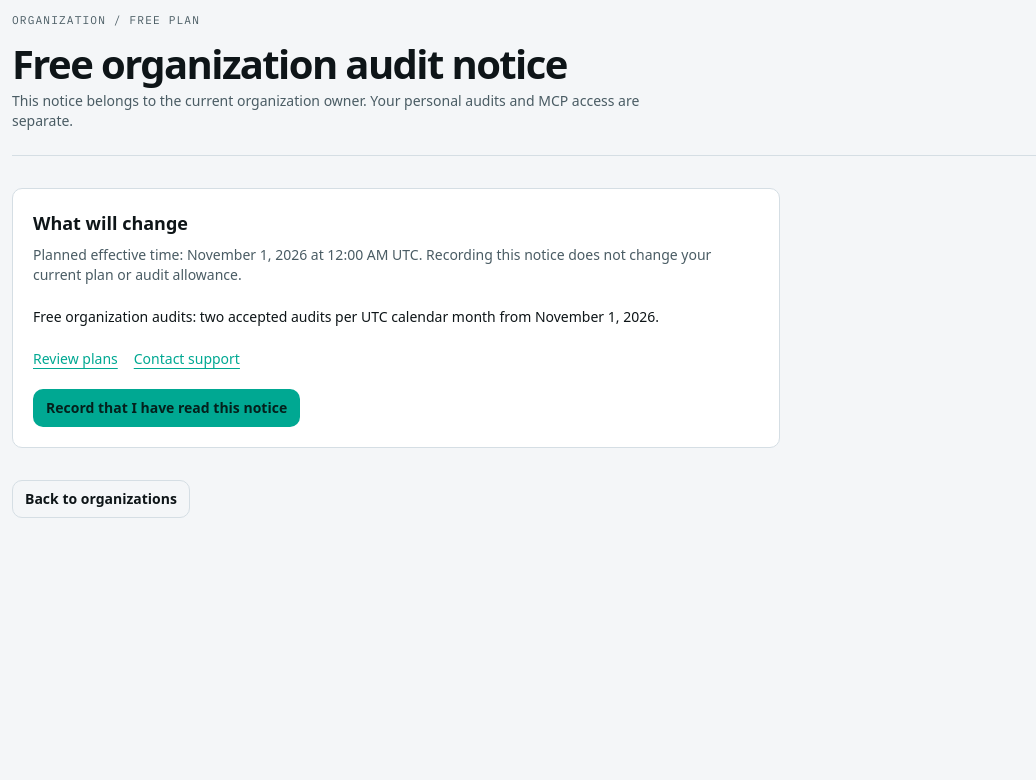
Test: Free organization cutover notice › keeps an unsuccessful acknowledgement pending and offers retry
Click the button "Record that I have read this notice" at (167, 408), box [33,389,300,427]
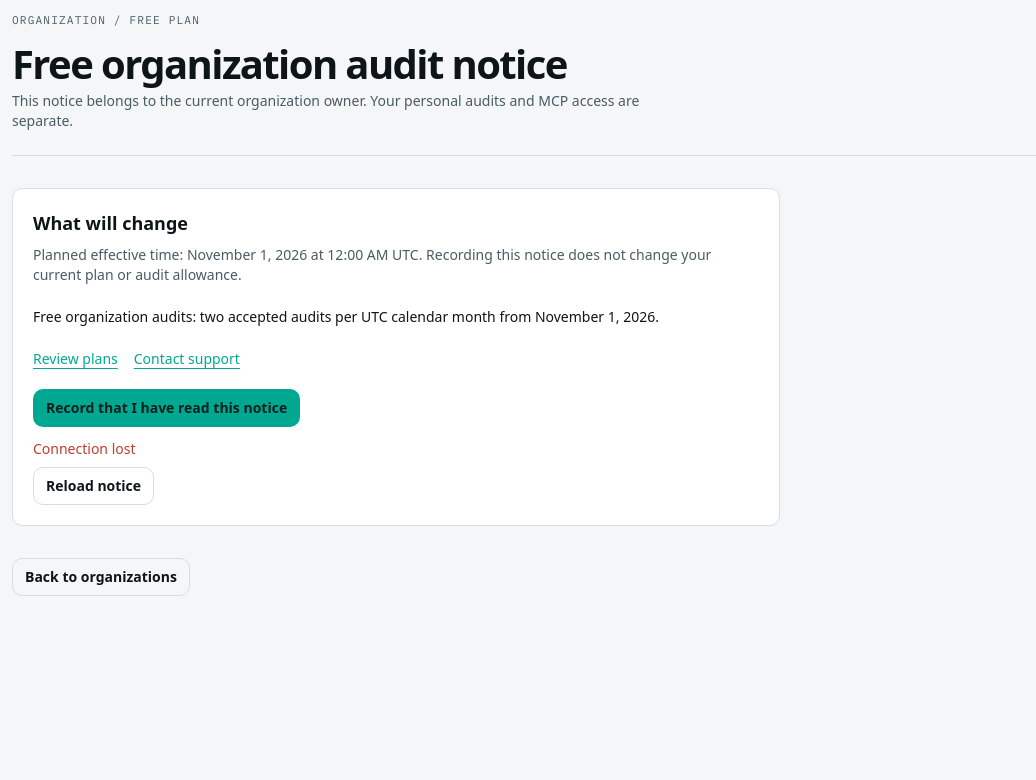
Check: the message shows "Connection lost", box [33,439,136,458]
